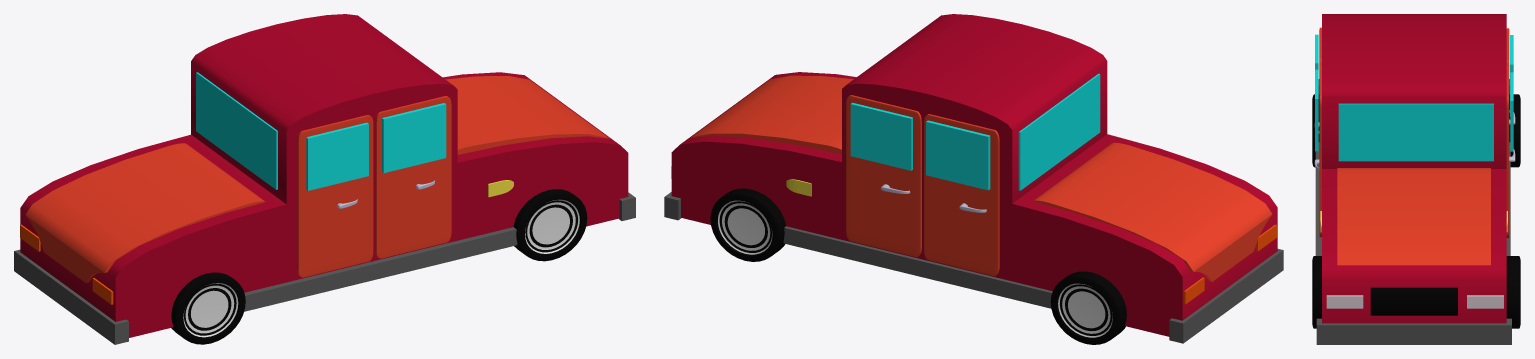
The model's file is Mashin.fbx.
3 views of the same model, side by side, from view 1: azimuth 30°, elevation 25°; view 2: azimuth 150°, elevation 25°; view 3: azimuth 270°, elevation 25° (orthographic). The views are drawn at different scales.
Parts seen in each view (by area): view 1: Cube, Cube.017, Cube.022, Cube.020, Cube.019, Cube.003, Cube.011, Cylinder.002, Cylinder.001, Cube.014, Cube.015, Cube.002; view 2: Cube, Cube.017, Cube.024, Cube.025, Cube.019, Cube.011, Cube.004, Cylinder.003, Cylinder.004, Cube.021, Cube.023, Cube.002; view 3: Cube, Cube.019, Cube.010, Cube.001, Cube.005, Cylinder.004, Cylinder.001, Cube.024, Cylinder.003, Cube.003, Cube.007, Cube.006 (+6 smaller).
Part boxes in pixels (bbox=[...]): Cube: bbox=[20, 14, 628, 337]; Cube.017: bbox=[25, 143, 265, 282]; Cube.022: bbox=[297, 115, 373, 277]; Cube.020: bbox=[375, 96, 451, 258]; Cube.019: bbox=[445, 76, 609, 154]; Cube.003: bbox=[244, 227, 517, 311]; Cube.011: bbox=[196, 72, 277, 189]; Cylinder.002: bbox=[171, 272, 245, 344]; Cylinder.001: bbox=[513, 189, 587, 261]; Cube.014: bbox=[382, 103, 446, 172]; Cube.015: bbox=[306, 122, 368, 190]; Cube.002: bbox=[14, 249, 128, 344]; Cube: bbox=[671, 14, 1277, 336]; Cube.017: bbox=[1033, 142, 1272, 281]; Cube.024: bbox=[846, 95, 921, 257]; Cube.025: bbox=[924, 114, 999, 276]; Cube.019: bbox=[690, 75, 853, 154]; Cube.011: bbox=[1018, 73, 1100, 190]; Cube.004: bbox=[783, 226, 1052, 308]; Cylinder.003: bbox=[1050, 271, 1126, 344]; Cylinder.004: bbox=[710, 188, 785, 261]; Cube.021: bbox=[926, 120, 990, 190]; Cube.023: bbox=[850, 102, 912, 170]; Cube.002: bbox=[1169, 249, 1283, 343]; Cube: bbox=[1322, 14, 1506, 323]; Cube.019: bbox=[1337, 168, 1490, 265]; Cube.010: bbox=[1338, 103, 1493, 161]; Cube.001: bbox=[1316, 318, 1511, 344]; Cube.005: bbox=[1370, 287, 1457, 315]; Cylinder.004: bbox=[1506, 256, 1520, 328]; Cylinder.001: bbox=[1312, 256, 1321, 328]; Cube.024: bbox=[1506, 65, 1509, 238]; Cylinder.003: bbox=[1509, 94, 1520, 167]; Cube.003: bbox=[1315, 142, 1321, 255]; Cube.007: bbox=[1326, 295, 1363, 308]; Cube.006: bbox=[1467, 295, 1503, 308].
Size of the model in its own units: 1145 by 433 by 410.
